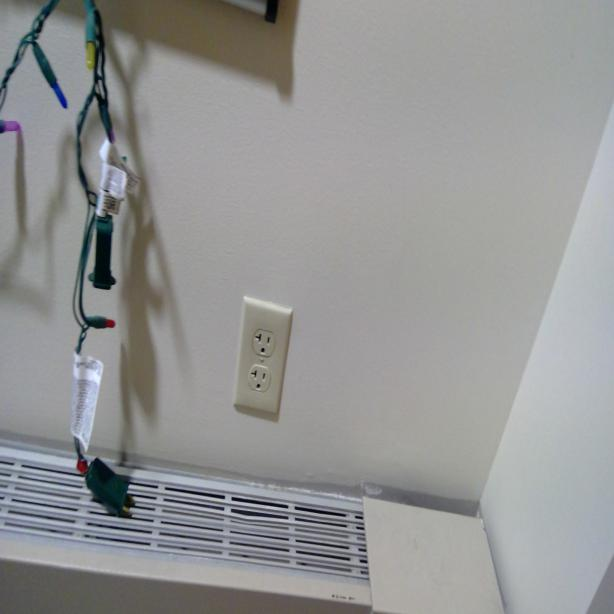typeb: (253, 329, 273, 357), (250, 366, 269, 393)
